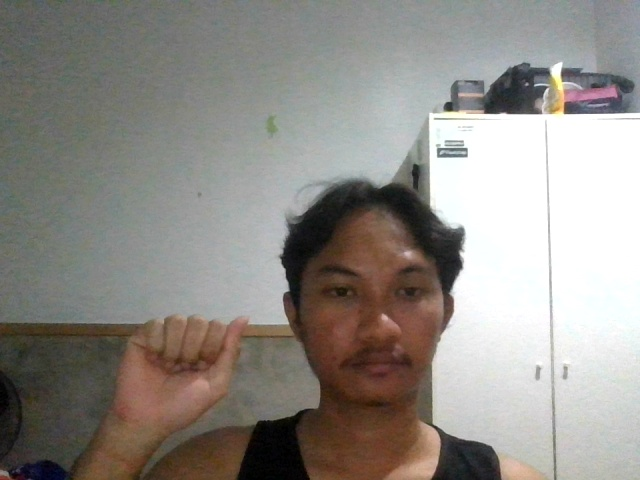a: (92, 295, 259, 465)
